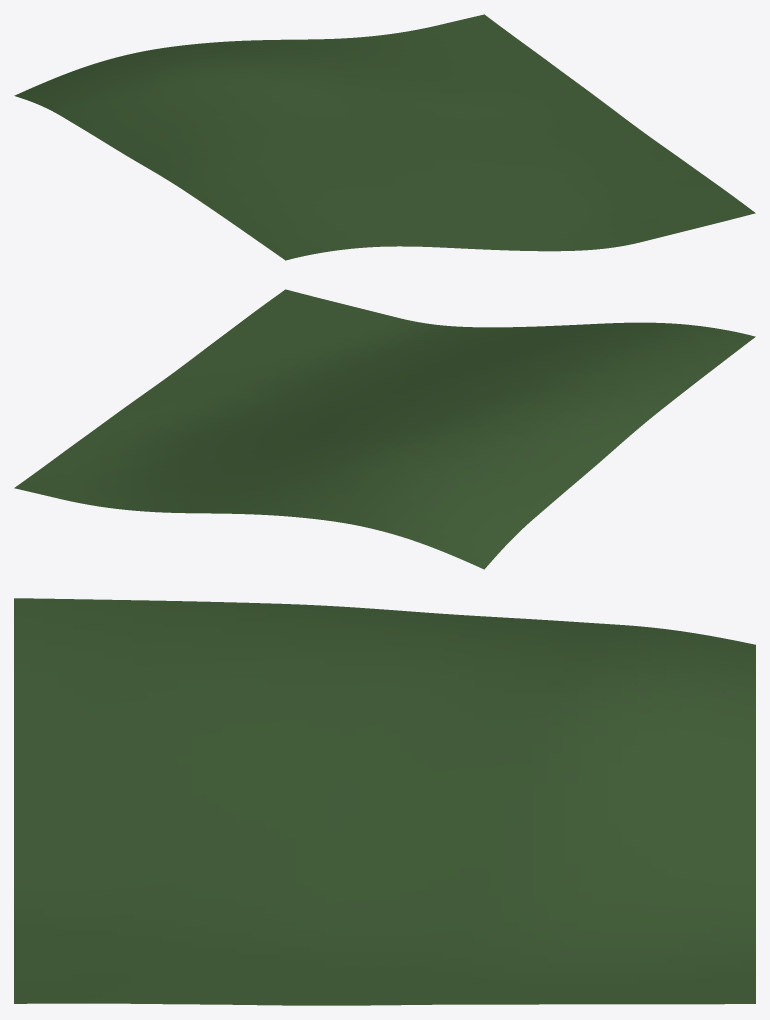
File: chunk1-8_LOD0.obj
3 views of the same model, one above another, from view 1: azimuth 30°, elevation 25°; view 2: azimuth 150°, elevation 25°; view 3: azimuth 270°, elevation 25° (orthographic). The views are drawn at different scales.
Visible parts, largest first — view 1: Terrain; view 2: Terrain; view 3: Terrain.
Part boxes in pixels (x1,y1,x2,y2): Terrain: (14, 14, 755, 260); Terrain: (14, 289, 755, 569); Terrain: (14, 598, 755, 1005).
Size of the model in its own units: 4000 by 575 by 4000.
